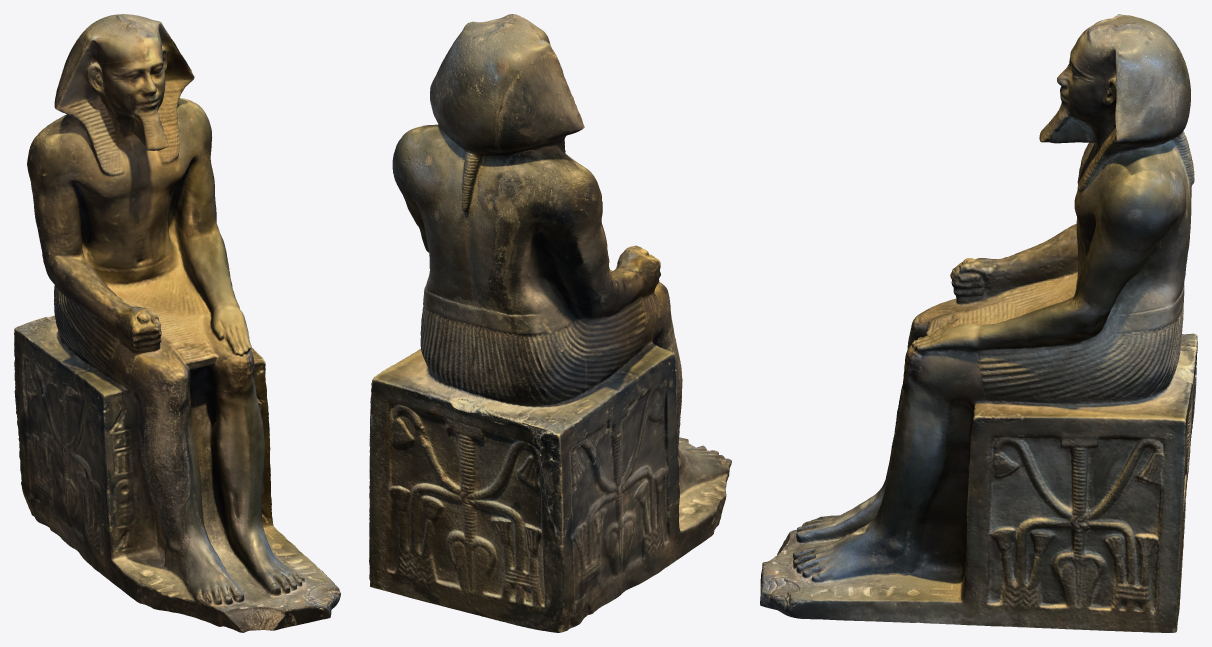
Rendered from khafrev2.glb.
3 views of the same model, side by side, from view 1: azimuth 30°, elevation 25°; view 2: azimuth 150°, elevation 25°; view 3: azimuth 270°, elevation 25° (orthographic). The views are drawn at different scales.
Parts seen in each view (by area): view 1: Mesh_0.006; view 2: Mesh_0.006; view 3: Mesh_0.006.
Boxes of the visible parts, <box> form: Mesh_0.006: <box>14,14,340,632</box>; Mesh_0.006: <box>369,14,731,632</box>; Mesh_0.006: <box>760,14,1197,632</box>.
Size of the model in its own units: 0.451 by 1.17 by 0.8321.
1 material, 1 textured.
